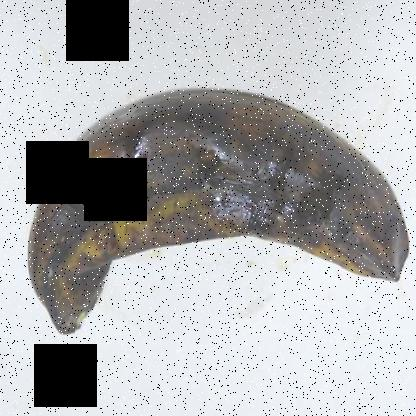rotten: (13, 74, 415, 344)
